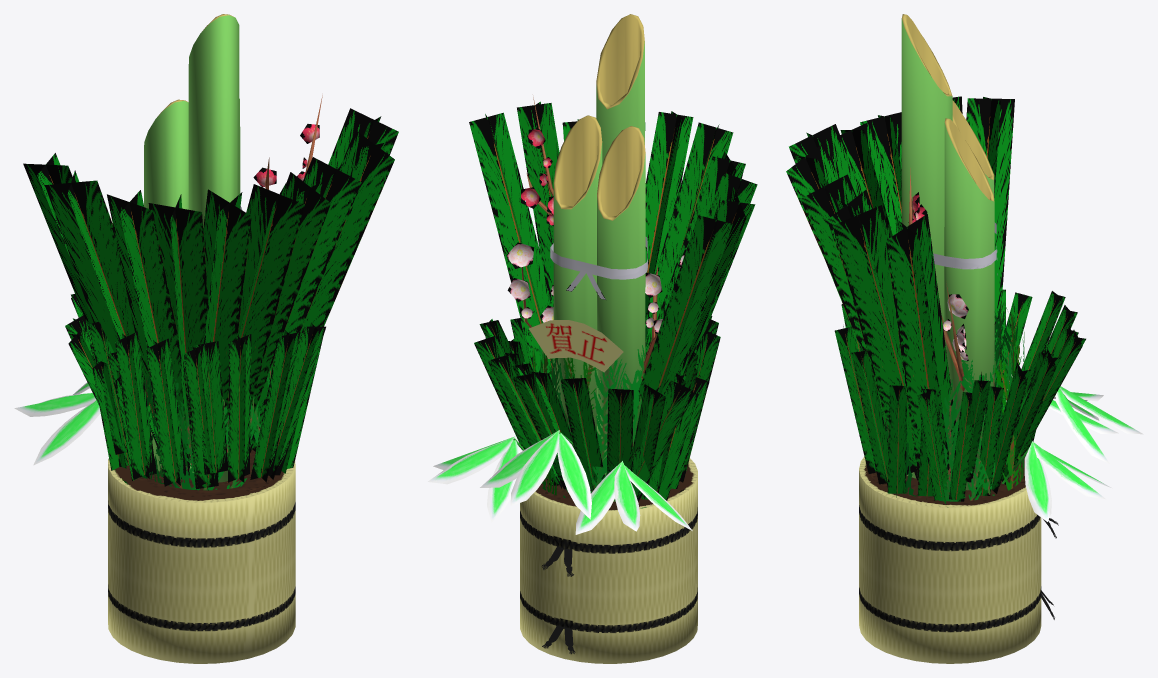
Rendered from kadomatsu_ver1.fbx.
3 renders of one model, left to right at view 1: azimuth 30°, elevation 25°; view 2: azimuth 150°, elevation 25°; view 3: azimuth 270°, elevation 25°, orthographic. The views are drawn at different scales.
Visible parts, largest first — view 1: Plane, Cylinder.004; view 2: Plane, Cylinder.004; view 3: Plane, Cylinder.004.
Boxes of the visible parts, box(x1,y1,x2,y2) form: Plane: box(14, 95, 398, 663); Cylinder.004: box(144, 14, 240, 482); Plane: box(428, 97, 757, 663); Cylinder.004: box(553, 14, 645, 503); Plane: box(786, 96, 1143, 663); Cylinder.004: box(901, 14, 994, 490).
Bounding box in the file's own units: 117 × 223 × 119.
